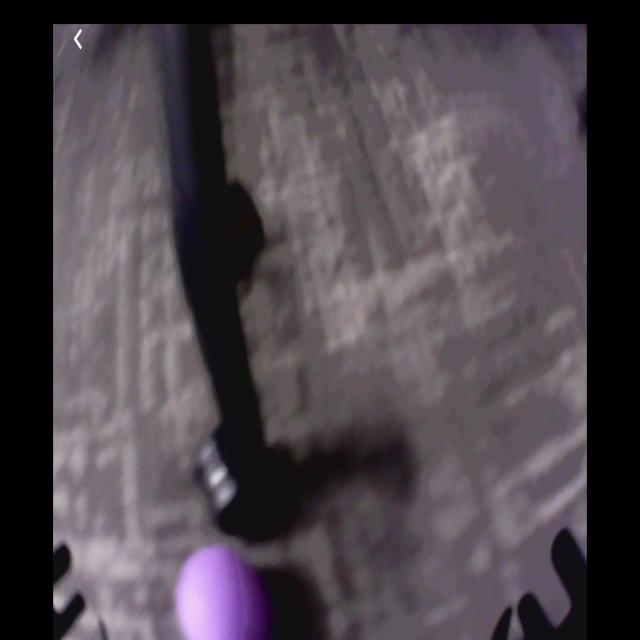ball: (175, 546, 271, 640)
